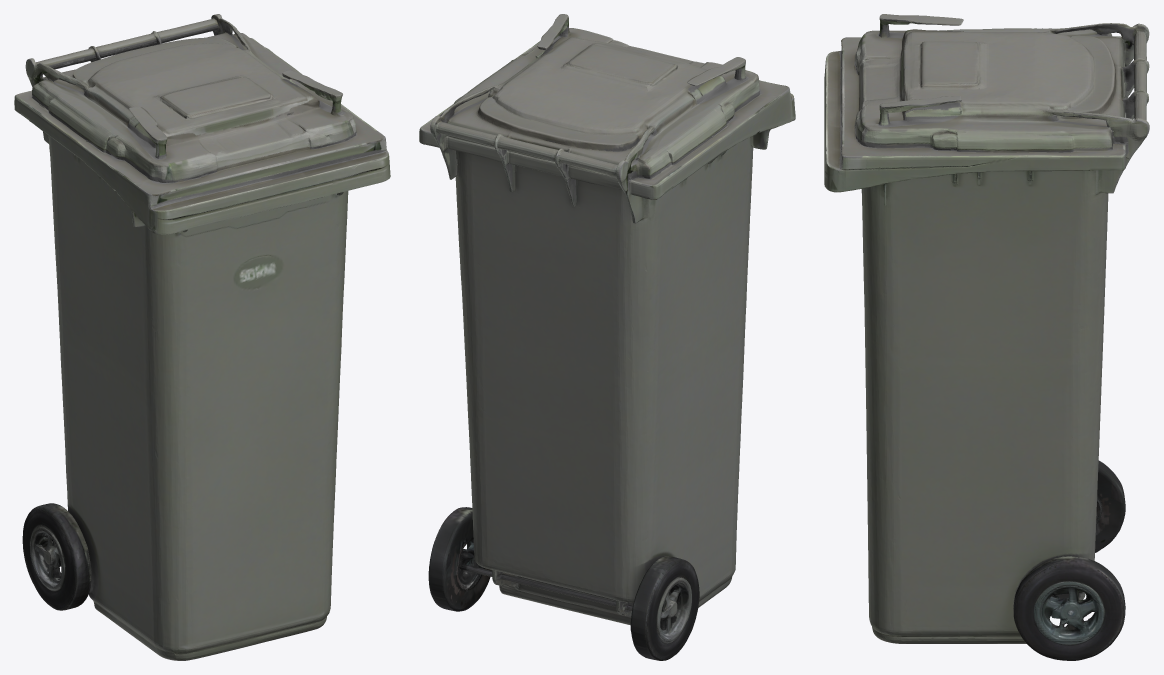
Rendered from Trash_Bin_on_Wheels_0705233925_texture.obj.
The picture shows the model from 3 angles, left to right: view 1: azimuth 30°, elevation 25°; view 2: azimuth 150°, elevation 25°; view 3: azimuth 270°, elevation 25°; orthographic projection. The views are drawn at different scales.
Parts seen in each view (by area): view 1: Trash_Bin_on_Wheels_0705233925_texture; view 2: Trash_Bin_on_Wheels_0705233925_texture; view 3: Trash_Bin_on_Wheels_0705233925_texture.
Boxes of the visible parts, bbox=[...] form: Trash_Bin_on_Wheels_0705233925_texture: bbox=[14, 14, 390, 660]; Trash_Bin_on_Wheels_0705233925_texture: bbox=[419, 14, 795, 660]; Trash_Bin_on_Wheels_0705233925_texture: bbox=[824, 14, 1149, 660].
Bounding box in the file's own units: 0.945 × 2 × 1.08.
Materials: 1 (1 with a texture image).
